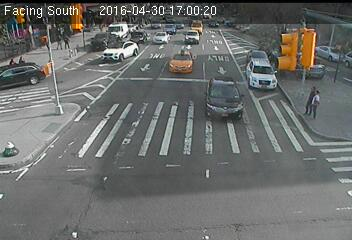neg: (69, 46, 83, 63), (178, 44, 190, 61), (291, 70, 301, 84), (197, 35, 204, 45)
pos: (51, 33, 64, 50), (60, 33, 72, 49)
